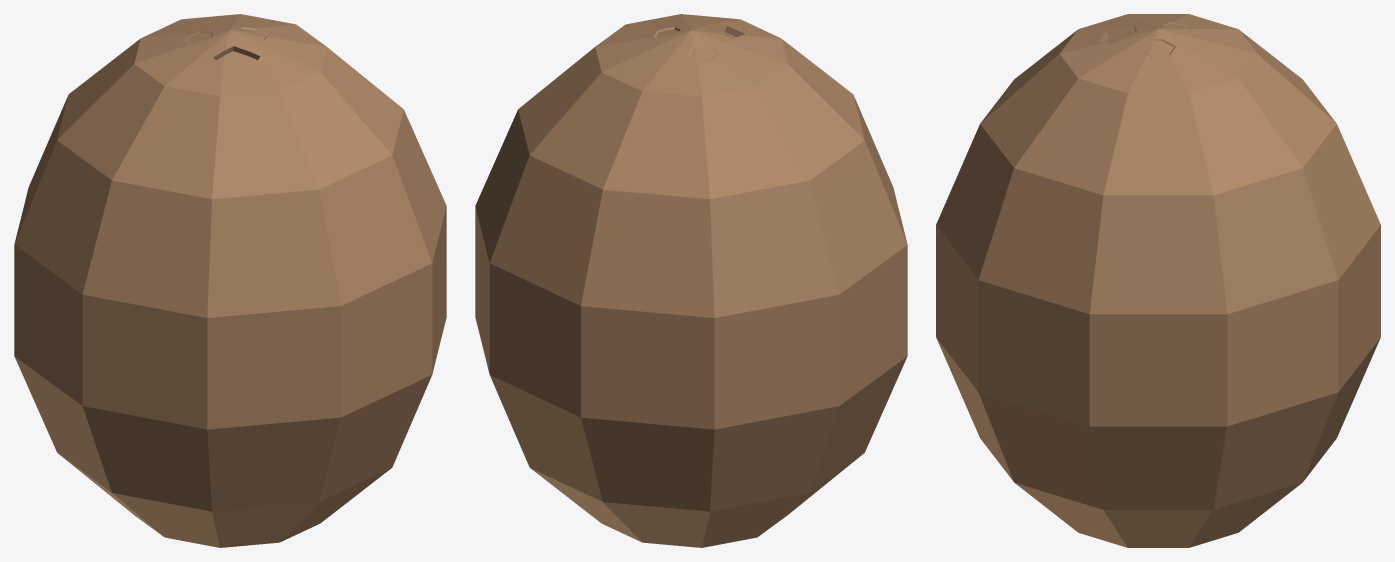
The model's file is coconut.fbx.
3 views of the same model, side by side, from view 1: azimuth 30°, elevation 25°; view 2: azimuth 150°, elevation 25°; view 3: azimuth 270°, elevation 25° (orthographic).
Parts seen in each view (by area): view 1: shuck, shuck_cracked, hole; view 2: shuck, shuck_cracked; view 3: shuck, shuck_cracked.
Part boxes in pixels (x1,y1,x2,y2): shuck: (14, 14, 446, 547); shuck_cracked: (14, 209, 446, 429); hole: (216, 51, 257, 71); shuck: (475, 14, 907, 547); shuck_cracked: (475, 207, 907, 428); shuck: (936, 14, 1380, 547); shuck_cracked: (936, 226, 1380, 426).
Bounding box in the file's own units: 14.9 × 20.11 × 15.67.
